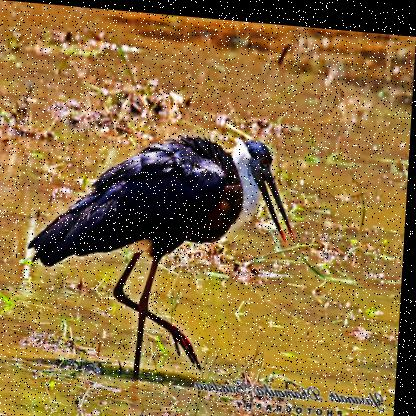Burung: (25, 115, 303, 380)
